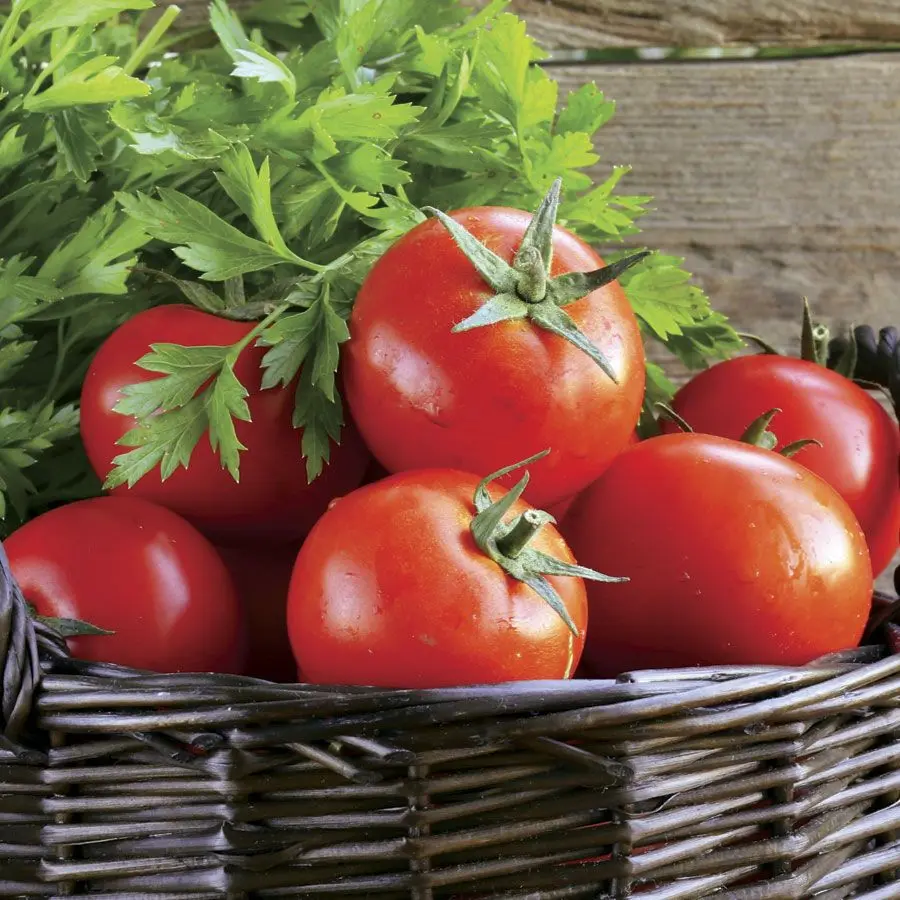tomato: (345, 180, 680, 518)
